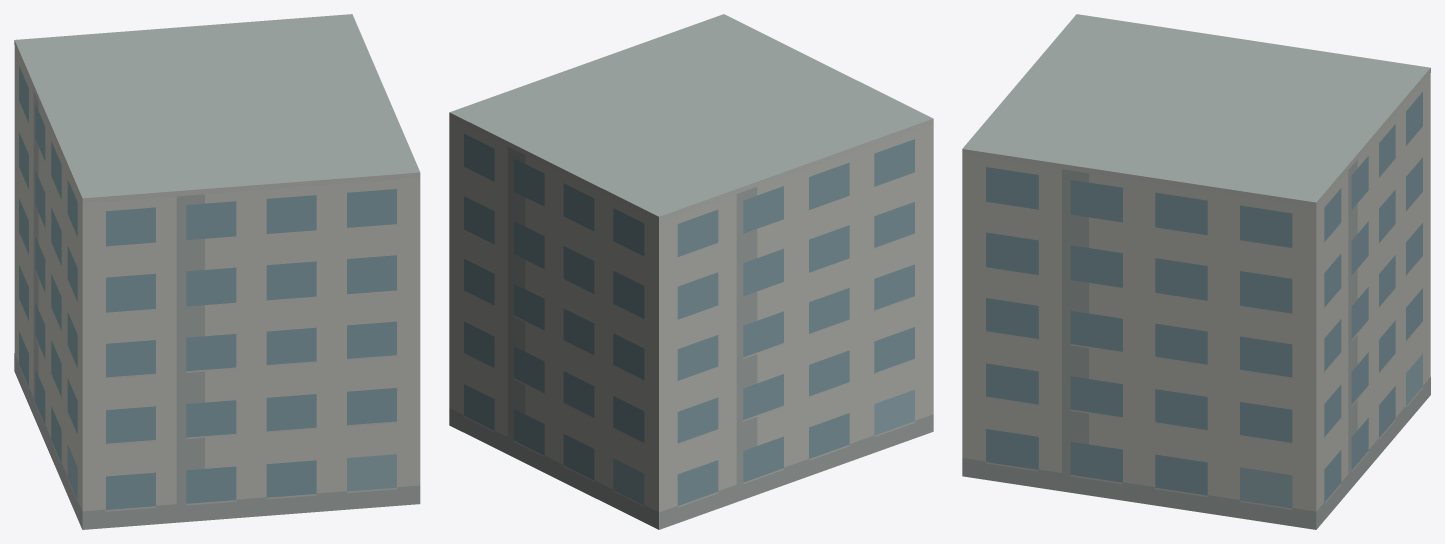
Rendered from residential-7a439094-3797-4a4d-8410-2abdf9657196.glb.
3 renders of one model, left to right at view 1: azimuth 30°, elevation 25°; view 2: azimuth 150°, elevation 25°; view 3: azimuth 270°, elevation 25°, orthographic. The views are drawn at different scales.
Visible parts, largest first — view 1: residential-7a439094-3797-4a4d-8410-2abdf9657196.tmp; view 2: residential-7a439094-3797-4a4d-8410-2abdf9657196.tmp; view 3: residential-7a439094-3797-4a4d-8410-2abdf9657196.tmp.
Boxes of the visible parts, left/top/right/bottom form: residential-7a439094-3797-4a4d-8410-2abdf9657196.tmp: left=14, top=14, right=420, bottom=529; residential-7a439094-3797-4a4d-8410-2abdf9657196.tmp: left=449, top=14, right=933, bottom=529; residential-7a439094-3797-4a4d-8410-2abdf9657196.tmp: left=962, top=14, right=1430, bottom=529.
Bounding box in the file's own units: 18.85 × 15.25 × 19.79.
